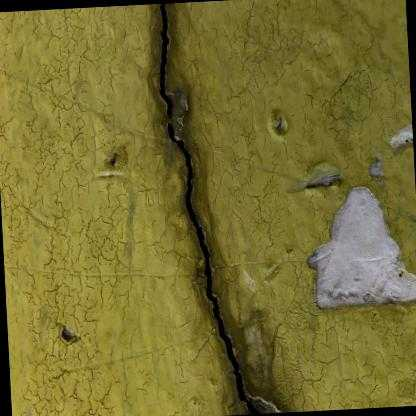crack: (154, 4, 266, 414)
